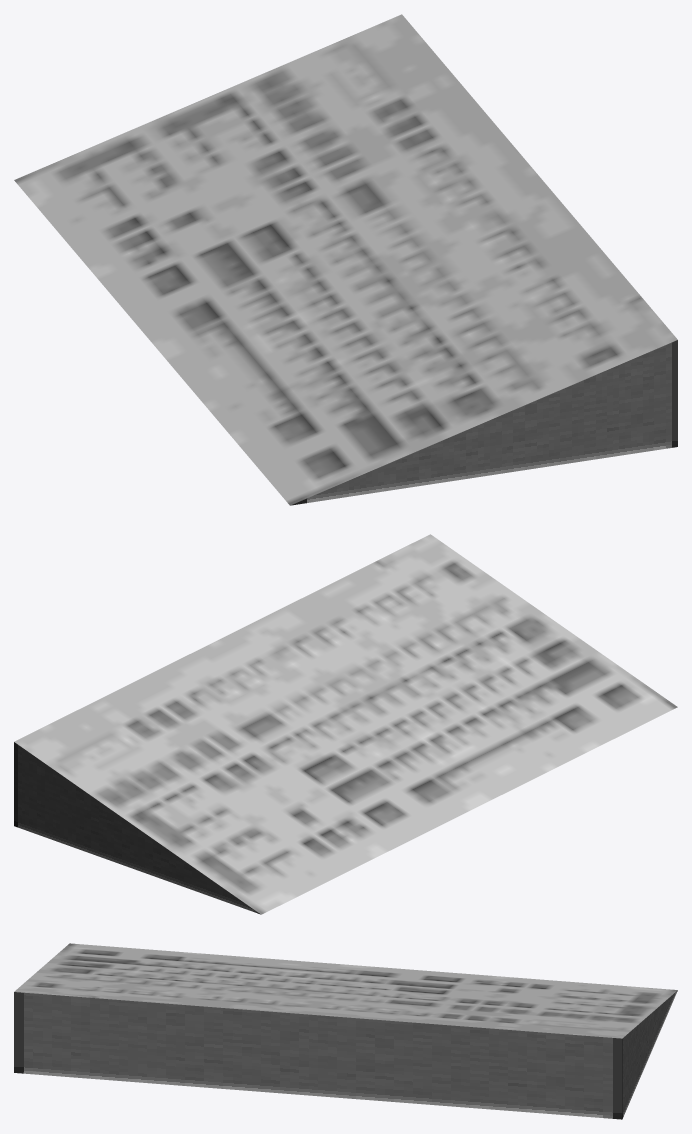
The model's file is primary_087.glb.
3 views of the same model, one above another, from view 1: azimuth 30°, elevation 25°; view 2: azimuth 150°, elevation 25°; view 3: azimuth 270°, elevation 25° (orthographic). The views are drawn at different scales.
Parts seen in each view (by area): view 1: Object; view 2: Object; view 3: Object.
Part boxes in pixels (<box>): Object: <box>14,14,677,505</box>; Object: <box>14,534,677,914</box>; Object: <box>14,943,677,1119</box>.
Size of the model in its own units: 0.529 by 0.1134 by 0.8427.
4 materials, 4 textured.
